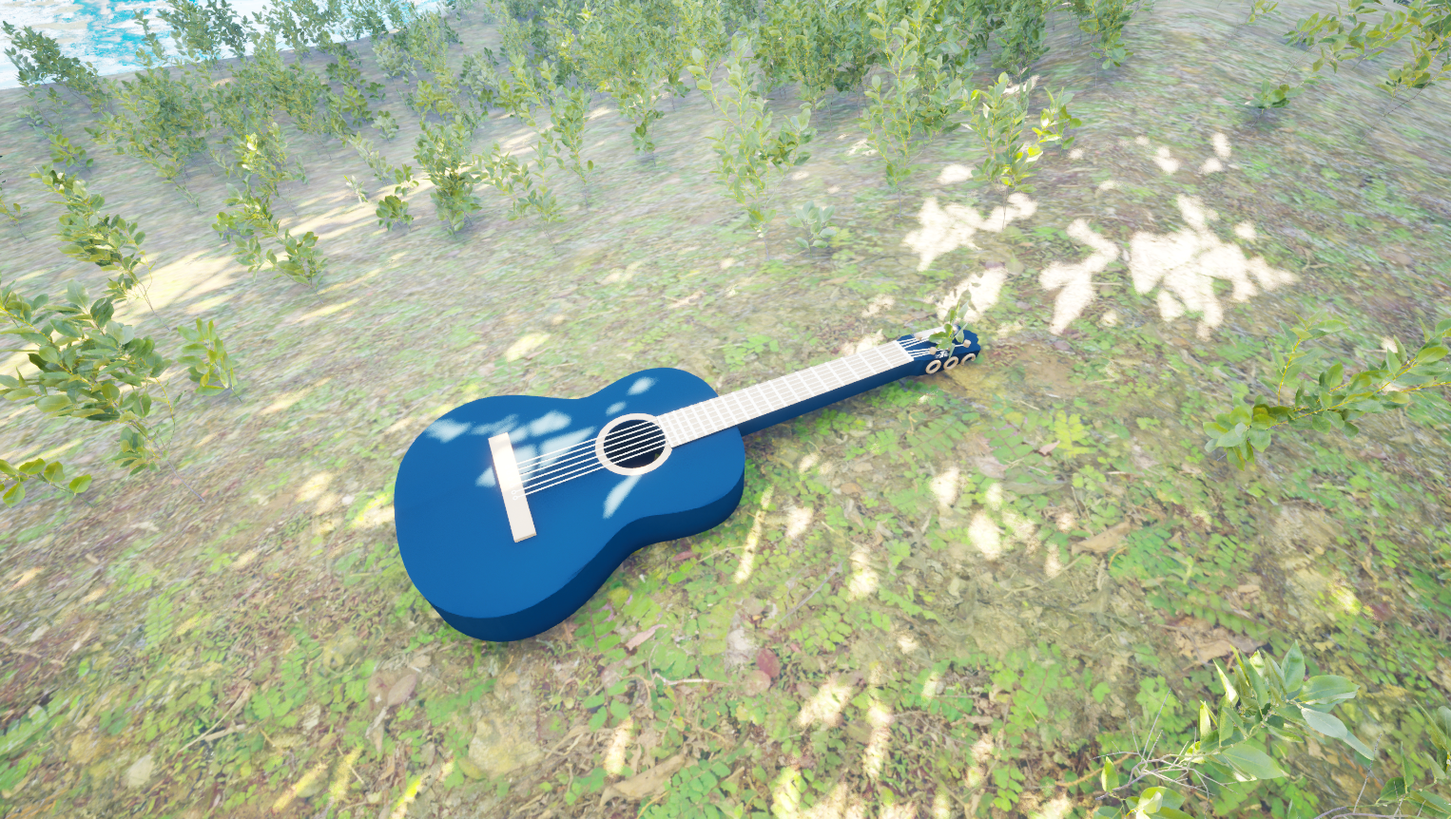Guitar: (382, 264, 1057, 678)
